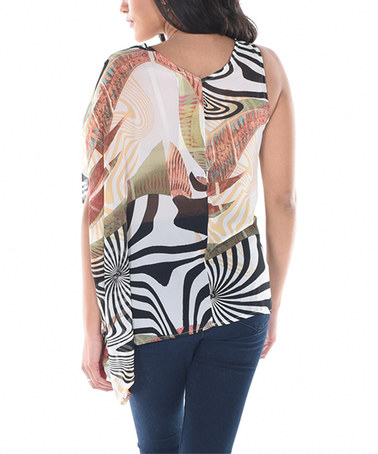C_W_pants: (109, 255, 278, 454)
C_tank top: (77, 43, 297, 406)
